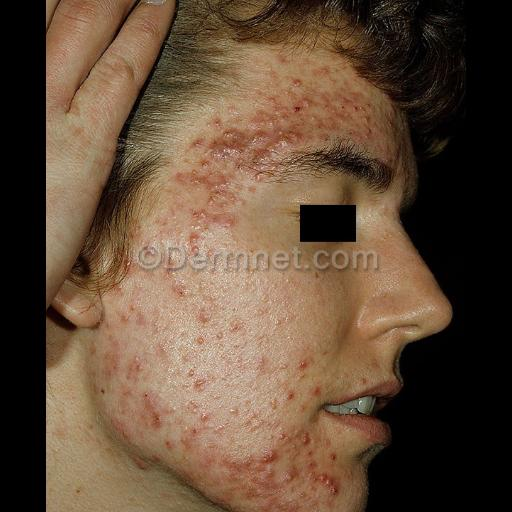Skin_Lesion: (320, 92, 390, 140), (200, 118, 246, 174), (256, 114, 284, 174), (228, 466, 278, 498), (176, 214, 214, 254), (200, 267, 222, 329), (316, 464, 342, 502), (142, 386, 162, 430), (278, 466, 308, 486), (176, 162, 194, 190), (196, 373, 216, 393), (114, 414, 130, 438), (172, 281, 188, 303), (298, 352, 312, 376), (260, 448, 280, 464), (132, 357, 144, 379), (88, 338, 98, 362), (302, 430, 314, 450), (72, 480, 84, 498), (292, 102, 306, 116), (96, 382, 108, 396), (138, 310, 148, 326), (312, 384, 322, 398), (201, 409, 211, 423), (166, 436, 174, 452), (288, 386, 296, 402)
